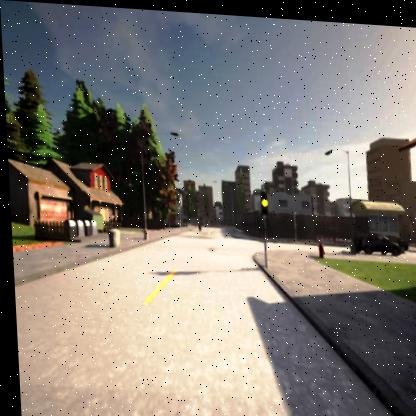vehicle: (352, 226, 405, 252)
